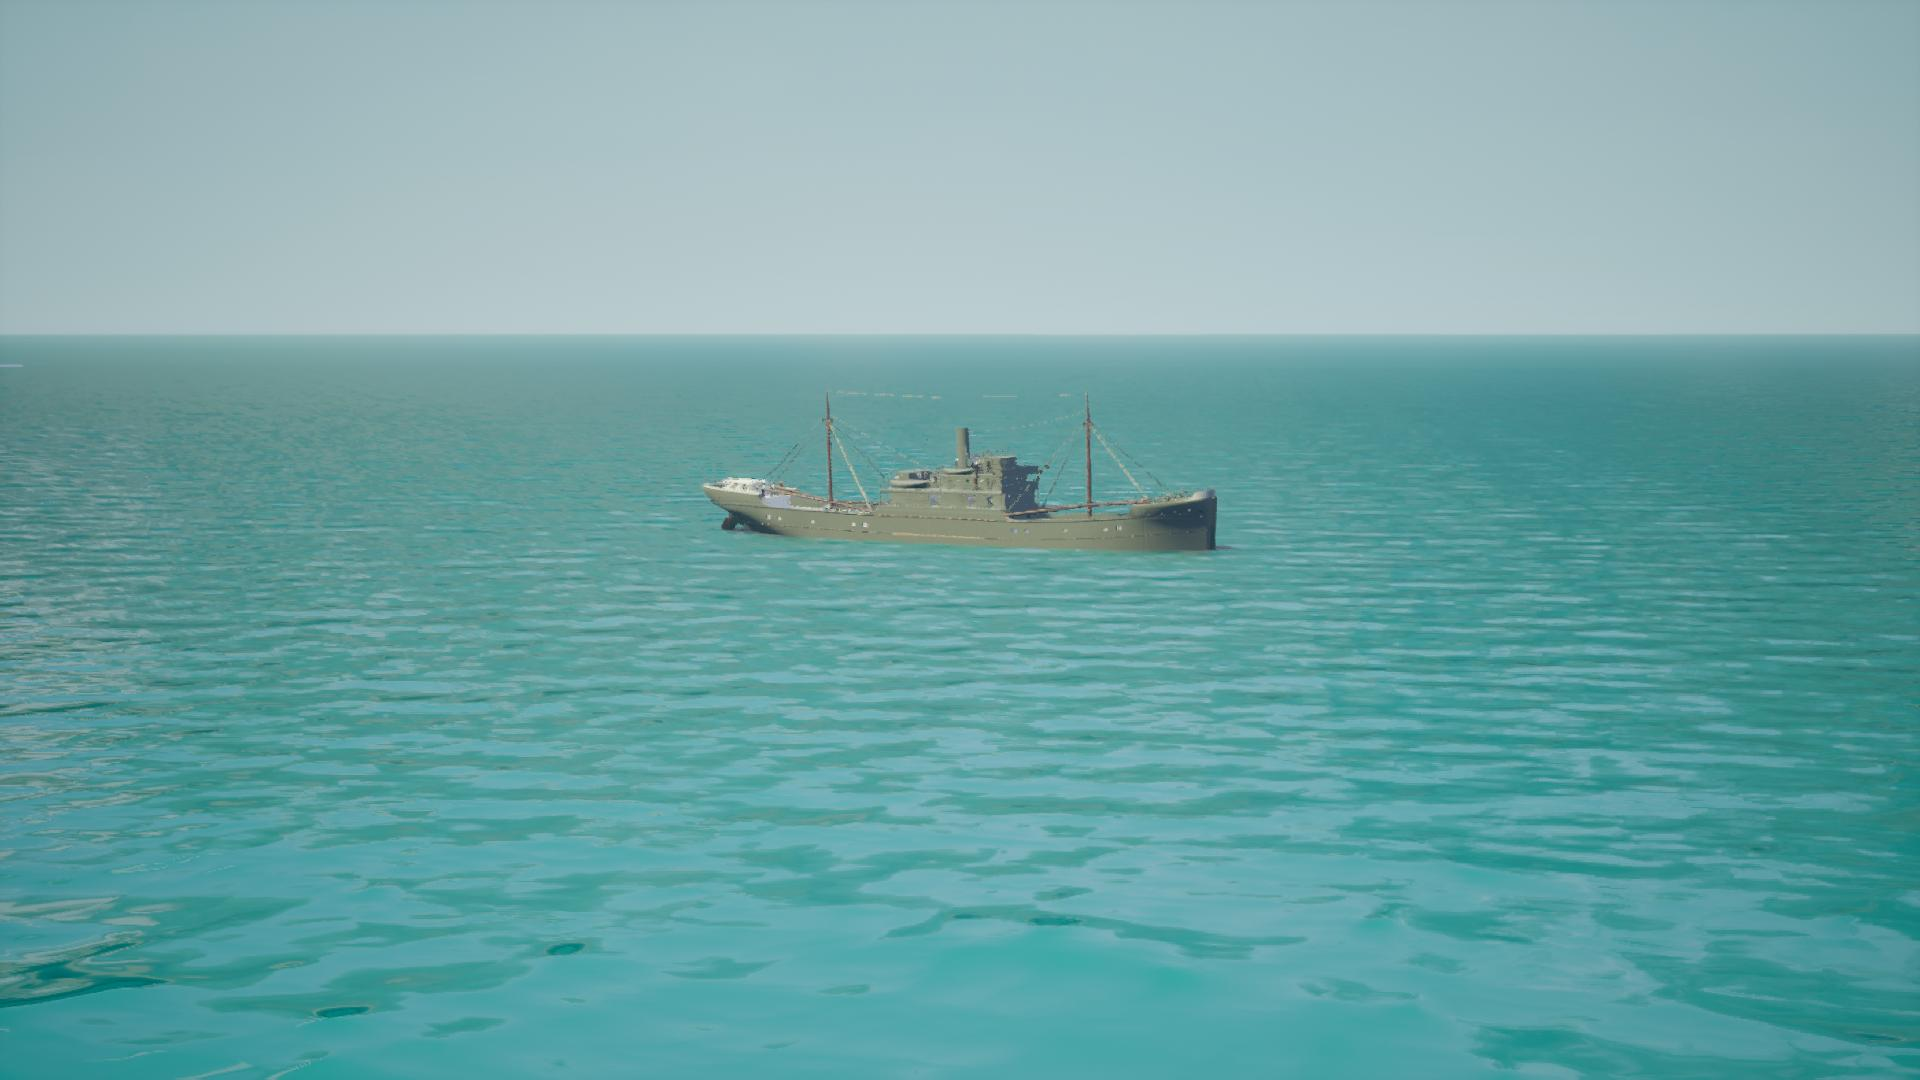Fishing Boat: (704, 397, 1217, 550)
